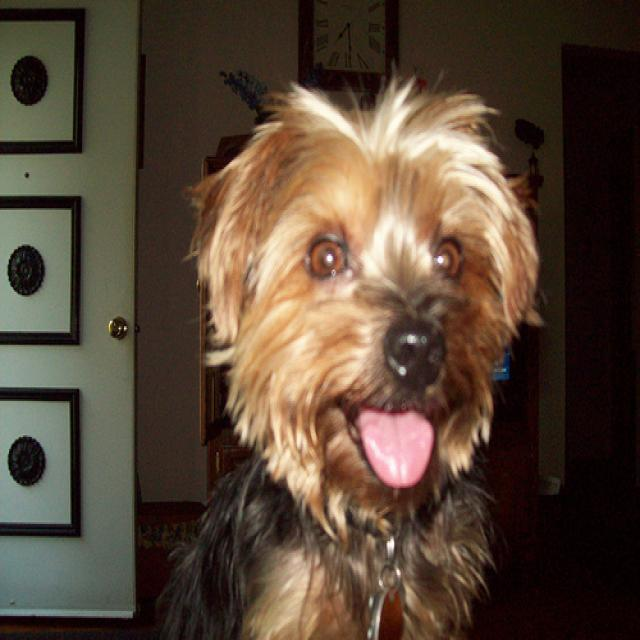dog-yorkshire_terrier: (142, 61, 552, 637)
